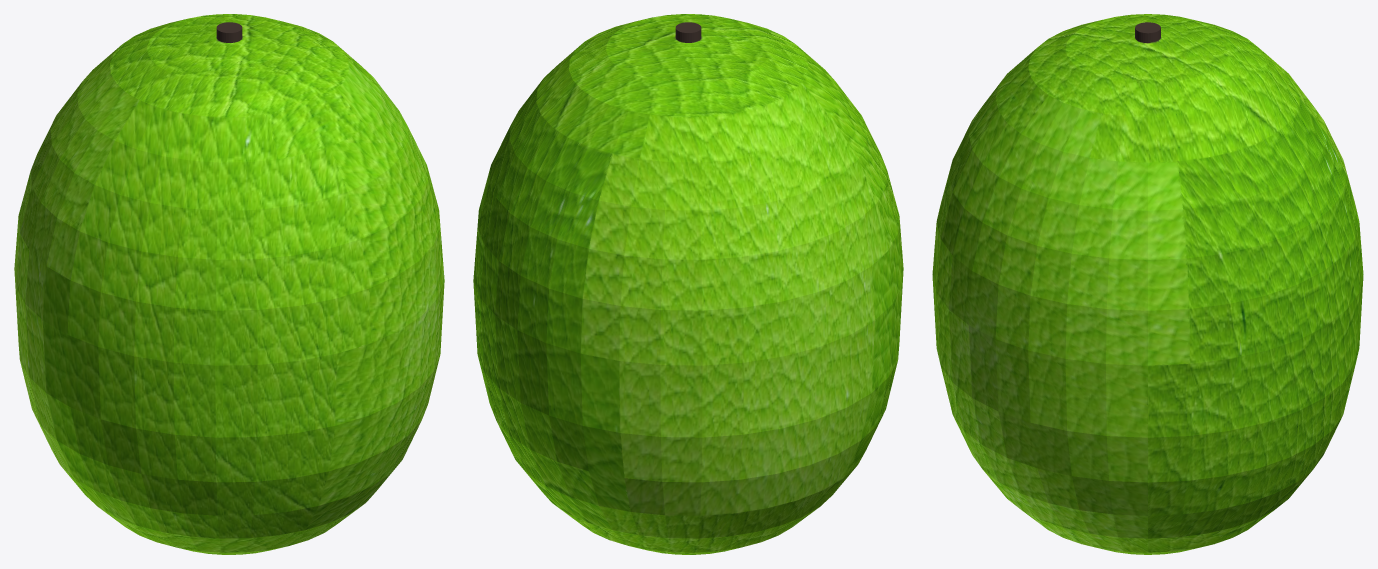
The model's file is Lime.fbx.
3 renders of one model, left to right at view 1: azimuth 30°, elevation 25°; view 2: azimuth 150°, elevation 25°; view 3: azimuth 270°, elevation 25°, orthographic.
Visible parts, largest first — view 1: Sphere; view 2: Sphere; view 3: Sphere.
Boxes of the visible parts, box(x1,y1,x2,y2) form: Sphere: box(14, 14, 444, 554); Sphere: box(473, 14, 903, 554); Sphere: box(932, 14, 1363, 554).
Size of the model in its own units: 0.26 by 0.26 by 0.3376.
1 material, 1 textured.
